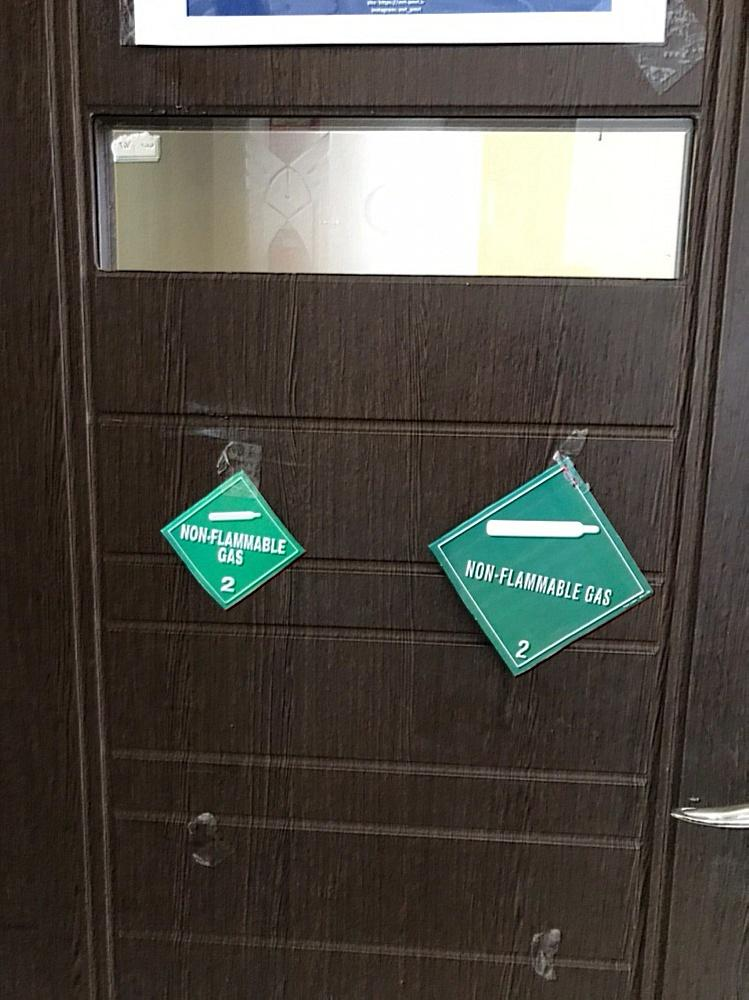non-flammable-gas: (428, 463, 649, 670), (162, 470, 306, 609)
